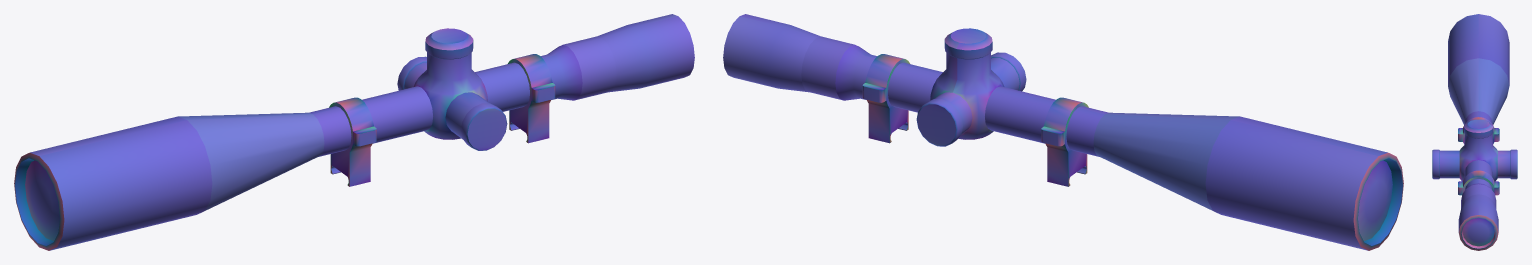
The model's file is cw_CheyanneR01_Sight_WL.fbx.
3 views of the same model, side by side, from view 1: azimuth 30°, elevation 25°; view 2: azimuth 150°, elevation 25°; view 3: azimuth 270°, elevation 25° (orthographic). The views are drawn at different scales.
Parts seen in each view (by area): view 1: cw_CheyanneR01_Sight_WL_lod0; view 2: cw_CheyanneR01_Sight_WL_lod0; view 3: cw_CheyanneR01_Sight_WL_lod0.
Boxes of the visible parts, x1,y1,x2,y2 form: cw_CheyanneR01_Sight_WL_lod0: (14, 14, 694, 250); cw_CheyanneR01_Sight_WL_lod0: (723, 14, 1403, 250); cw_CheyanneR01_Sight_WL_lod0: (1432, 14, 1517, 250).
Size of what is drawn, in the model's own units: 0.4104 by 0.0716 by 0.077.
